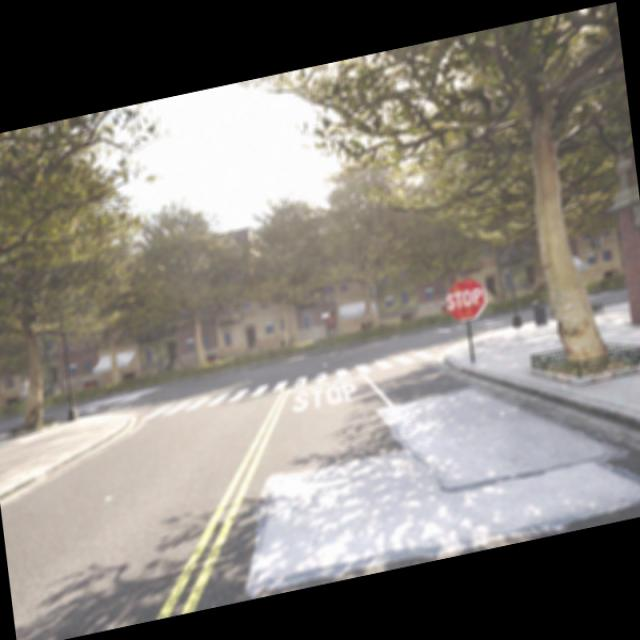stop sign: (442, 275, 488, 323), (446, 286, 484, 310)
